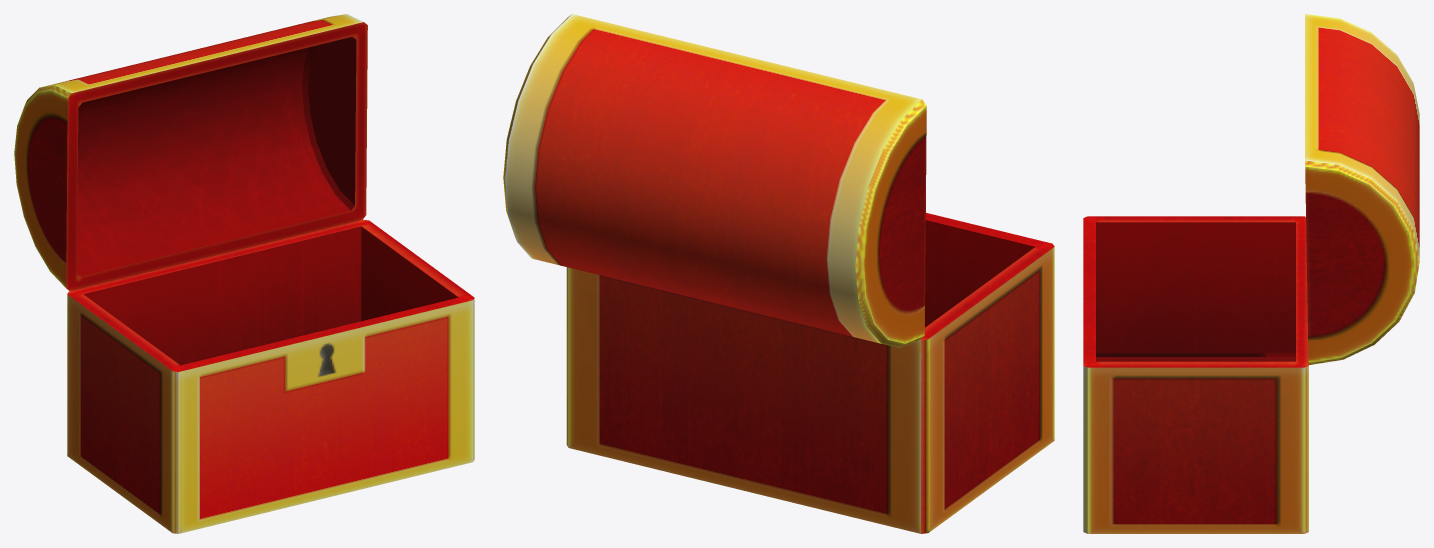
The picture shows the model from 3 angles, left to right: view 1: azimuth 30°, elevation 25°; view 2: azimuth 150°, elevation 25°; view 3: azimuth 270°, elevation 25°; orthographic projection. The views are drawn at different scales.
Parts seen in each view (by area): view 1: base, top; view 2: top, base; view 3: base, top.
Part boxes in pixels (<box>): base: <box>67,219,474,533</box>; top: <box>14,14,367,291</box>; top: <box>503,14,926,347</box>; base: <box>566,213,1054,533</box>; base: <box>1083,216,1308,533</box>; top: <box>1305,14,1419,364</box>.
Size of the model in its own units: 2.46 by 2.82 by 2.32.
